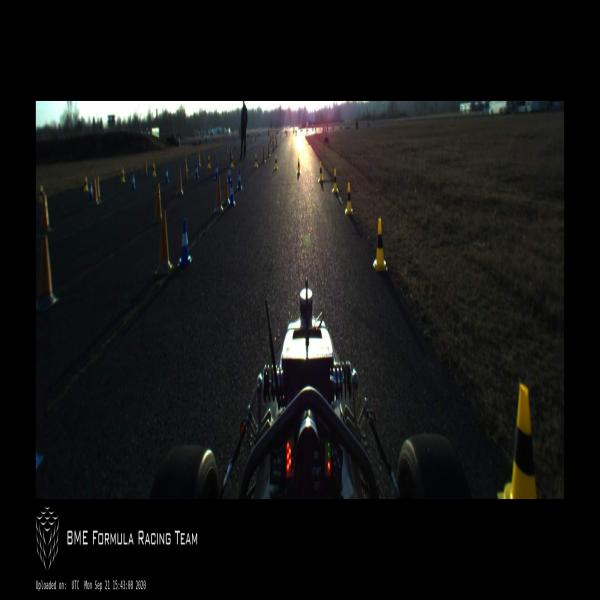blue_cone: (178, 222, 192, 266), (228, 181, 236, 206), (237, 169, 242, 189), (194, 162, 199, 179), (164, 167, 169, 182), (131, 174, 136, 189), (89, 182, 93, 199), (227, 166, 231, 183), (214, 164, 218, 179)
unknown_cone: (36, 234, 59, 308), (154, 212, 173, 274), (39, 194, 51, 231), (214, 180, 224, 212), (154, 183, 161, 221), (176, 168, 183, 195), (93, 177, 99, 203), (223, 172, 228, 202), (184, 160, 188, 179), (98, 178, 101, 201), (144, 159, 148, 176)
yellow_cone: (497, 383, 537, 499), (373, 220, 388, 270), (345, 183, 353, 214), (332, 168, 339, 193), (318, 162, 324, 181), (297, 157, 301, 174), (39, 184, 43, 201), (84, 178, 89, 191), (274, 155, 278, 170), (254, 154, 258, 168), (152, 163, 156, 176), (121, 169, 125, 182), (230, 155, 234, 167), (207, 156, 211, 168)
